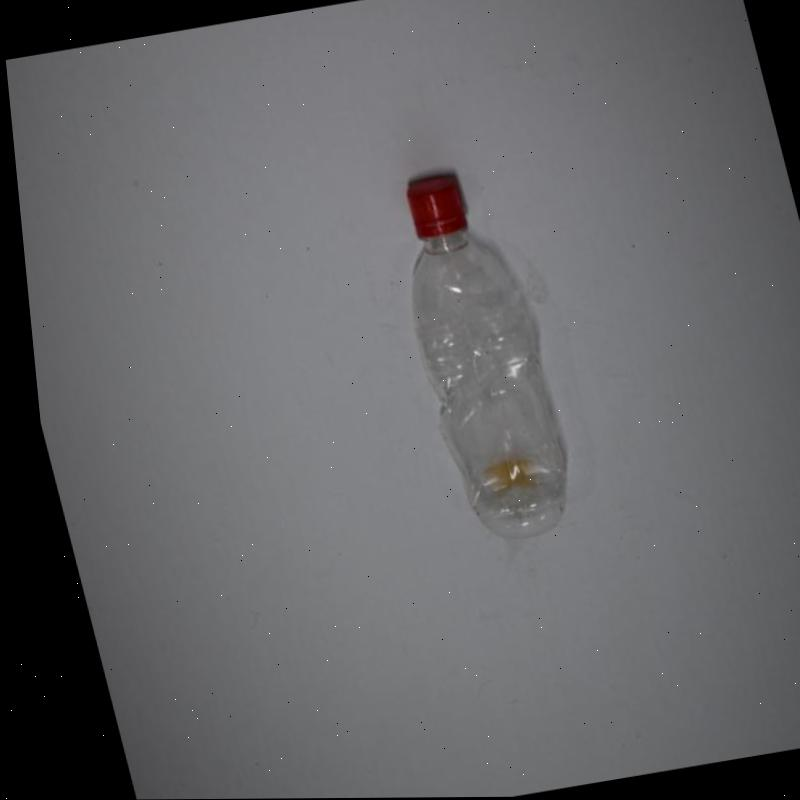botella: (367, 166, 578, 553)
